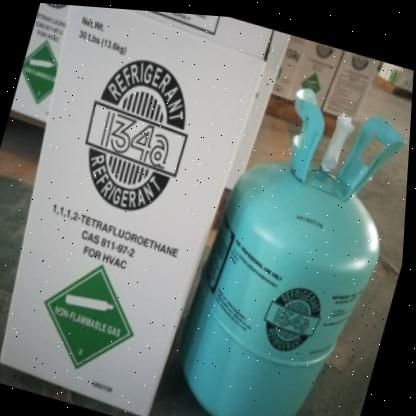gas-tank: (168, 49, 414, 415)
